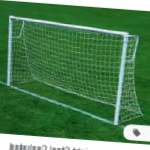goals: (4, 14, 145, 125)
